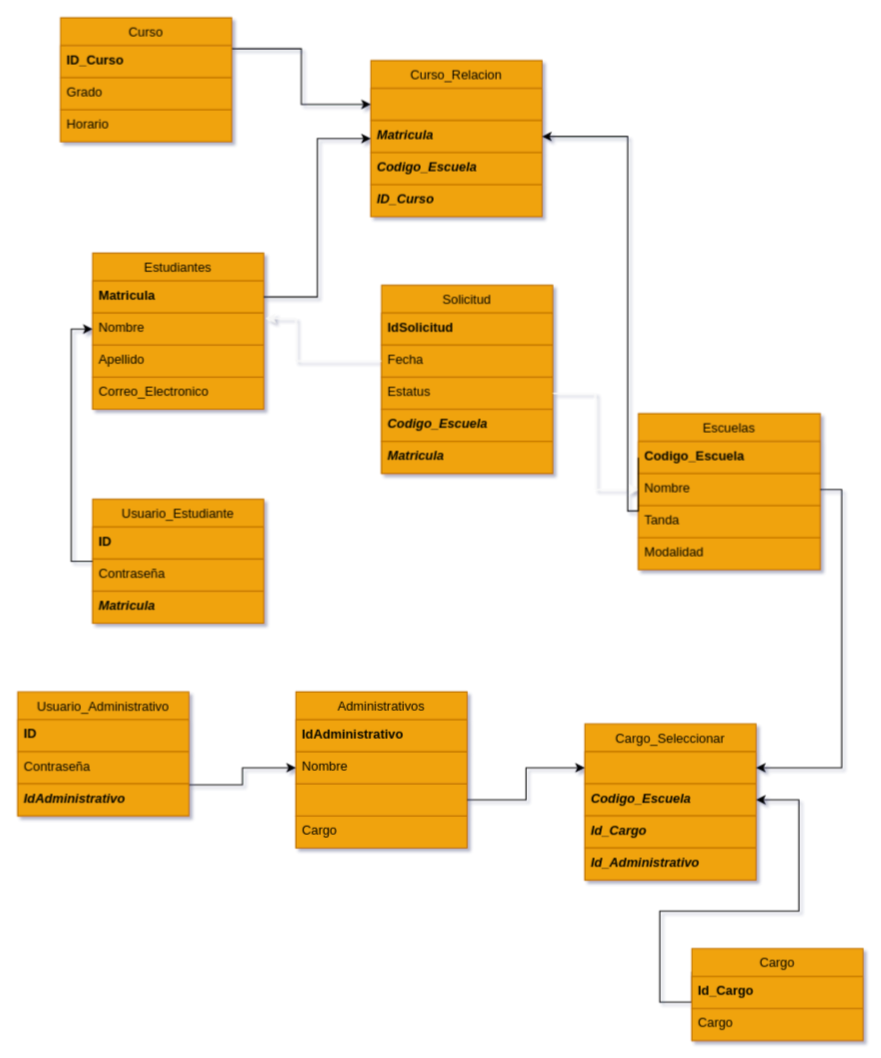
Some shapes in this 881 by 1058 pixel diagram are drawn without their labels. The shapes that lost their labels are listed below. From the top down, each one's centre as x and y in pixels, then its label:
pixel 456 103: ID_Curso_Rel
pixel 670 767: Id_Cargo_Seleccionar
pixel 381 799: Fecha_Nacimiento
